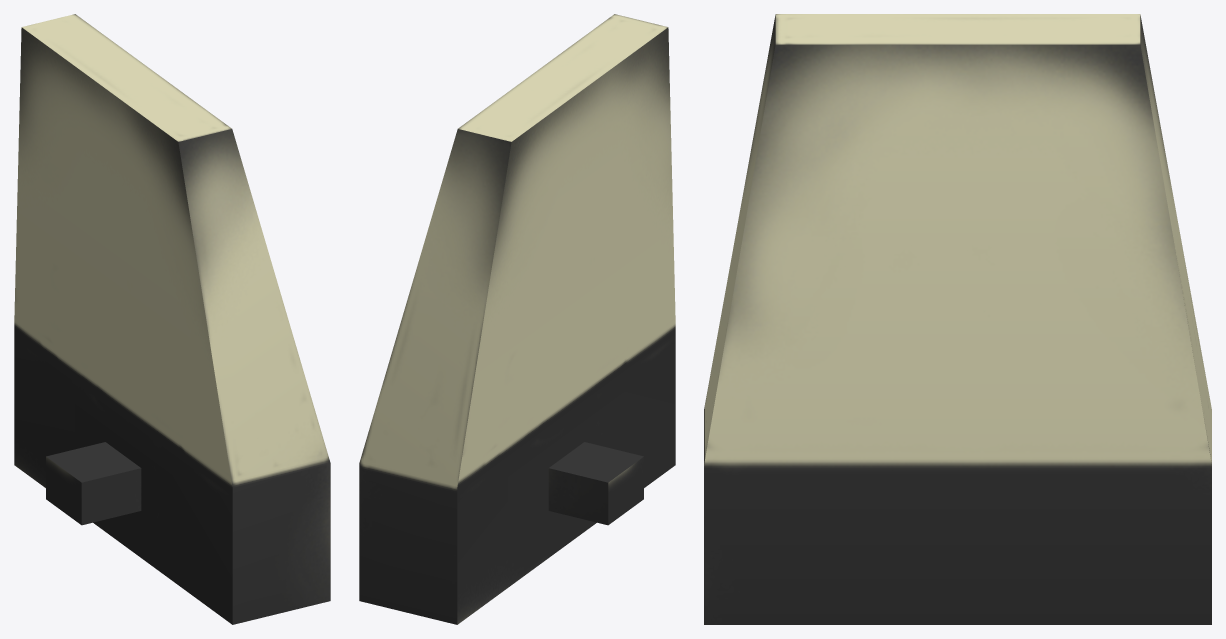
Rendered from wall_light.fbx.
3 views of the same model, side by side, from view 1: azimuth 30°, elevation 25°; view 2: azimuth 150°, elevation 25°; view 3: azimuth 270°, elevation 25° (orthographic). The views are drawn at different scales.
Parts seen in each view (by area): view 1: Wall_Light; view 2: Wall_Light; view 3: Wall_Light.
Part boxes in pixels (bbox=[...]): Wall_Light: bbox=[14, 14, 330, 624]; Wall_Light: bbox=[359, 14, 675, 624]; Wall_Light: bbox=[704, 14, 1211, 624].
Size of the model in its own units: 19.78 by 55.86 by 47.44.
Materials: 1 (1 with a texture image).
